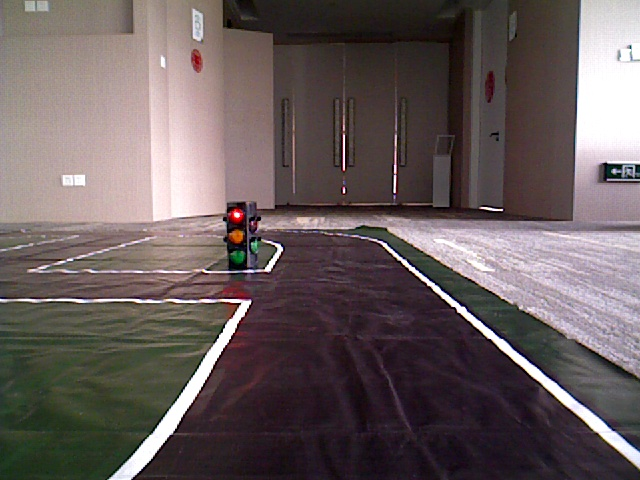red: (228, 203, 248, 263)
